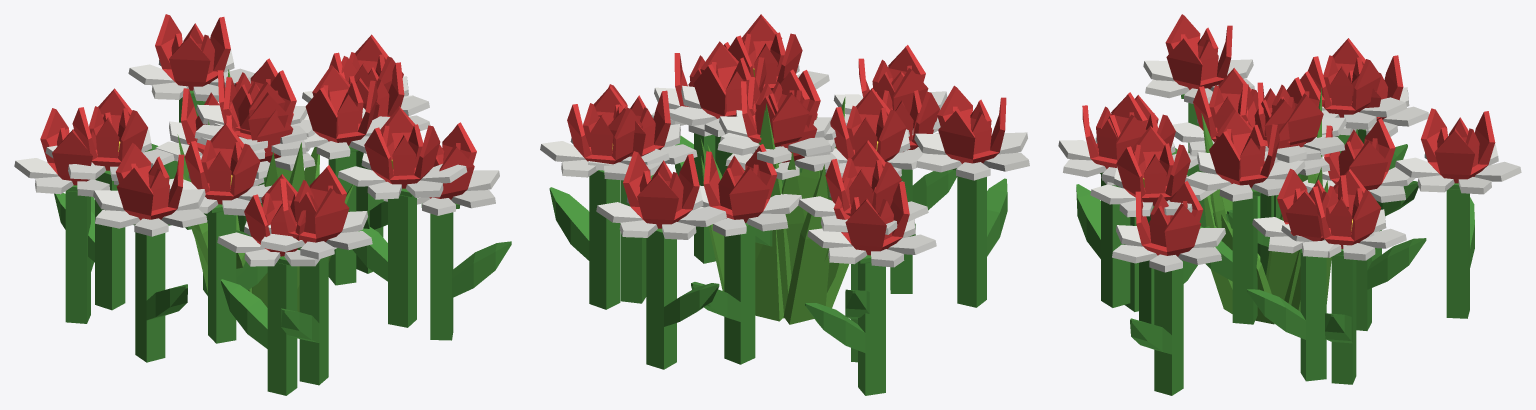
The model's file is w1_flowerpatches.fbx.
3 views of the same model, side by side, from view 1: azimuth 30°, elevation 25°; view 2: azimuth 150°, elevation 25°; view 3: azimuth 270°, elevation 25° (orthographic). The views are drawn at different scales.
Parts seen in each view (by area): view 1: Flowers7.Tulips, Flowers7.Stems, Flowers5.Stems, Flowers5.Tulips, Flowers7.Petals, Flowers3.Tulips, Flowers5.Petals, Flowers3.Stems, Flowers3.Petals, Flowers1.Tulips, GrassC.TuftC, GrassA.TuftA (+2 smaller); view 2: Flowers7.Stems, Flowers7.Tulips, Flowers7.Petals, Flowers5.Tulips, Flowers3.Tulips, GrassC.TuftC, Flowers3.Stems, Flowers5.Stems, Flowers3.Petals, Flowers5.Petals, GrassA.TuftA, GrassB.TuftB (+1 smaller); view 3: Flowers7.Tulips, Flowers7.Stems, Flowers7.Petals, Flowers5.Tulips, Flowers3.Tulips, Flowers5.Stems, Flowers3.Stems, Flowers5.Petals, Flowers3.Petals, GrassB.TuftB, GrassC.TuftC, GrassA.TuftA.
Part boxes in pixels (<box>): Flowers7.Tulips: <box>40,14,476,243</box>; Flowers7.Stems: <box>65,90,511,385</box>; Flowers5.Stems: <box>54,151,416,395</box>; Flowers5.Tulips: <box>72,56,440,256</box>; Flowers7.Petals: <box>14,50,499,259</box>; Flowers3.Tulips: <box>181,65,377,204</box>; Flowers5.Petals: <box>45,95,467,266</box>; Flowers3.Stems: <box>203,146,369,343</box>; Flowers3.Petals: <box>155,108,389,215</box>; Flowers1.Tulips: <box>226,101,293,162</box>; GrassC.TuftC: <box>177,134,304,292</box>; GrassA.TuftA: <box>177,69,353,265</box>; Flowers7.Stems: <box>549,133,1007,395</box>; Flowers7.Tulips: <box>567,42,1006,255</box>; Flowers7.Petals: <box>540,87,1029,267</box>; Flowers5.Tulips: <box>597,14,939,216</box>; Flowers3.Tulips: <box>693,41,906,222</box>; GrassC.TuftC: <box>701,110,848,324</box>; Flowers3.Stems: <box>691,136,755,364</box>; Flowers5.Stems: <box>620,169,915,362</box>; Flowers3.Petals: <box>669,85,925,236</box>; Flowers5.Petals: <box>570,65,939,234</box>; GrassA.TuftA: <box>700,97,845,318</box>; GrassB.TuftB: <box>707,144,804,277</box>; Flowers7.Tulips: <box>1082,14,1495,256</box>; Flowers7.Stems: <box>1076,94,1474,395</box>; Flowers7.Petals: <box>1058,59,1521,272</box>; Flowers5.Tulips: <box>1108,38,1381,241</box>; Flowers3.Tulips: <box>1193,68,1395,190</box>; Flowers5.Stems: <box>1125,129,1407,381</box>; Flowers3.Stems: <box>1200,188,1426,330</box>; Flowers5.Petals: <box>1090,97,1407,257</box>; Flowers3.Petals: <box>1172,119,1415,202</box>; GrassB.TuftB: <box>1204,174,1307,313</box>; GrassC.TuftC: <box>1204,126,1331,324</box>; GrassA.TuftA: <box>1201,87,1322,304</box>.
Bounding box in the file's own units: 3.01 × 1.78 × 3.04.
